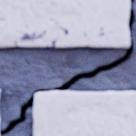brick: (0, 0, 128, 48), (33, 91, 135, 135)
crack: (0, 0, 135, 135)
